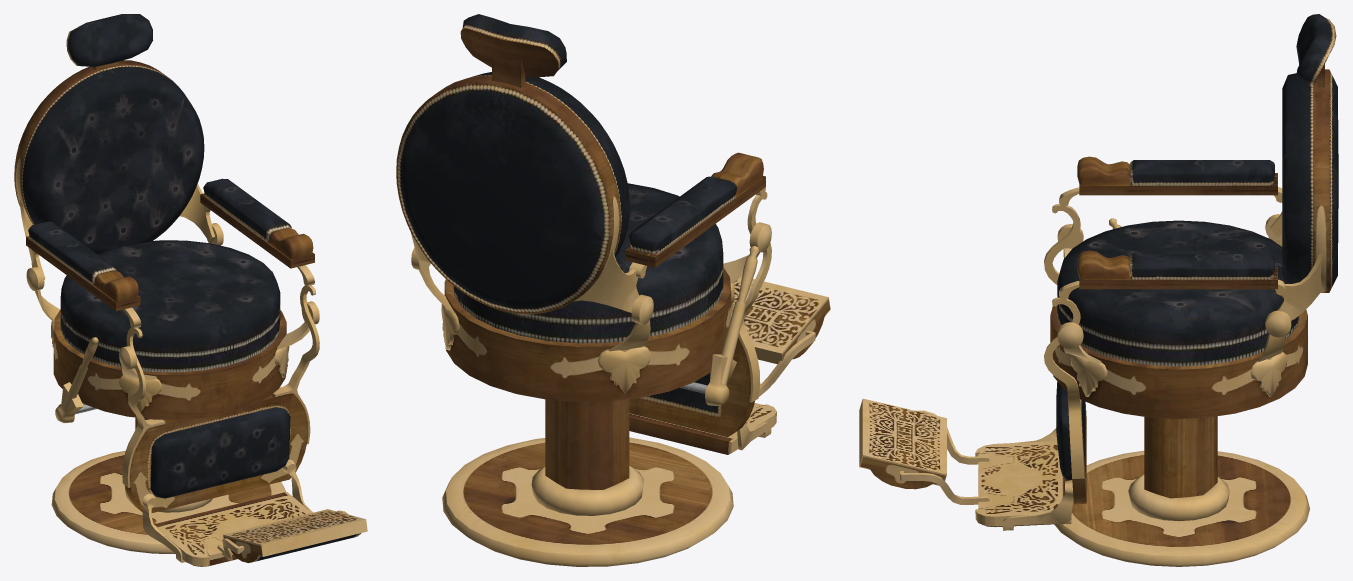
Rendered from silla.glb.
3 renders of one model, left to right at view 1: azimuth 30°, elevation 25°; view 2: azimuth 150°, elevation 25°; view 3: azimuth 270°, elevation 25°, orthographic. The views are drawn at different scales.
Parts seen in each view (by area): view 1: BarberShopChair_01; view 2: BarberShopChair_01; view 3: BarberShopChair_01.
Boxes of the visible parts, box(x1,y1,x2,y2) form: BarberShopChair_01: box(14, 14, 367, 566); BarberShopChair_01: box(396, 14, 830, 566); BarberShopChair_01: box(859, 14, 1338, 566).
Size of the model in its own units: 0.7566 by 1.49 by 1.33.
Materials: 1 (1 with a texture image).
